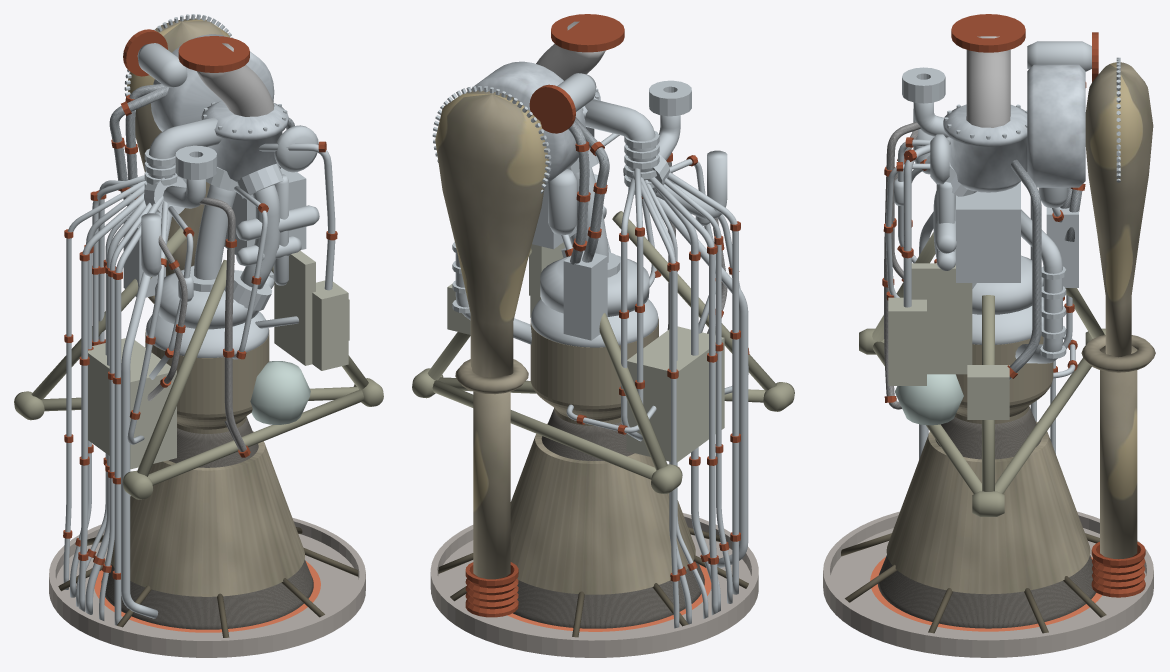
The model's file is xlr99.glb.
3 renders of one model, left to right at view 1: azimuth 30°, elevation 25°; view 2: azimuth 150°, elevation 25°; view 3: azimuth 270°, elevation 25°, orthographic. The views are drawn at different scales.
Parts seen in each view (by area): view 1: xlr99_nozzle_skin, xlr99_exit_ring, xlr99_nozzle, xlr99_chamber_valves, xlr99_chamber, xlr99_exit_plate, xlr99_turbopump, xlr99_turbine_exhaust_housing, xlr99_control_bracket, xlr99_lower_line, xlr99_igniter_blanket, xlr99_turbine_case (+47 smaller); view 2: xlr99_turbine_exhaust_housing, xlr99_nozzle_skin, xlr99_exit_ring, xlr99_chamber_valves, xlr99_nozzle, xlr99_turbine_exhaust, xlr99_chamber, xlr99_exit_plate, xlr99_lower_line, xlr99_foil_box, xlr99_turbine_case, xlr99_lower_line_6 (+39 smaller); view 3: xlr99_nozzle_skin, xlr99_turbine_exhaust_housing, xlr99_nozzle, xlr99_exit_ring, xlr99_turbine_case, xlr99_turbine_exhaust, xlr99_valve_block, xlr99_turbopump, xlr99_control_bracket, xlr99_exit_plate, xlr99_front_duct, xlr99_chamber (+33 smaller).
Boxes of the visible parts, x1,y1,x2,y2 form: xlr99_nozzle_skin: [111, 431, 304, 596]; xlr99_exit_ring: [49, 517, 365, 657]; xlr99_nozzle: [101, 417, 313, 629]; xlr99_chamber_valves: [88, 338, 176, 469]; xlr99_chamber: [145, 329, 269, 433]; xlr99_exit_plate: [56, 534, 358, 638]; xlr99_turbopump: [201, 100, 288, 182]; xlr99_turbine_exhaust_housing: [127, 18, 229, 276]; xlr99_control_bracket: [274, 250, 315, 365]; xlr99_lower_line: [121, 272, 158, 618]; xlr99_igniter_blanket: [250, 361, 310, 424]; xlr99_turbine_case: [151, 34, 274, 131]; xlr99_turbine_exhaust_housing: [435, 90, 548, 377]; xlr99_nozzle_skin: [510, 423, 695, 594]; xlr99_exit_ring: [430, 513, 758, 657]; xlr99_chamber_valves: [626, 326, 724, 462]; xlr99_nozzle: [513, 408, 704, 628]; xlr99_turbine_exhaust: [473, 391, 510, 579]; xlr99_chamber: [530, 318, 658, 425]; xlr99_exit_plate: [438, 534, 751, 637]; xlr99_lower_line: [657, 197, 748, 568]; xlr99_foil_box: [563, 250, 607, 340]; xlr99_turbine_case: [471, 61, 585, 184]; xlr99_lower_line_6: [649, 177, 718, 615]; xlr99_nozzle_skin: [886, 421, 1090, 594]; xlr99_turbine_exhaust_housing: [1085, 62, 1153, 357]; xlr99_nozzle: [878, 406, 1096, 628]; xlr99_exit_ring: [823, 511, 1153, 657]; xlr99_turbine_case: [1027, 64, 1085, 187]; xlr99_turbine_exhaust: [1100, 345, 1137, 558]; xlr99_valve_block: [956, 181, 1020, 282]; xlr99_turbopump: [943, 104, 1027, 192]; xlr99_control_bracket: [911, 263, 972, 374]; xlr99_exit_plate: [830, 528, 1146, 637]; xlr99_front_duct: [966, 36, 1010, 127]; xlr99_chamber: [955, 335, 1053, 423].
Size of the model in its own units: 1.15 by 1.92 by 1.03.
18 materials, 7 textured.
